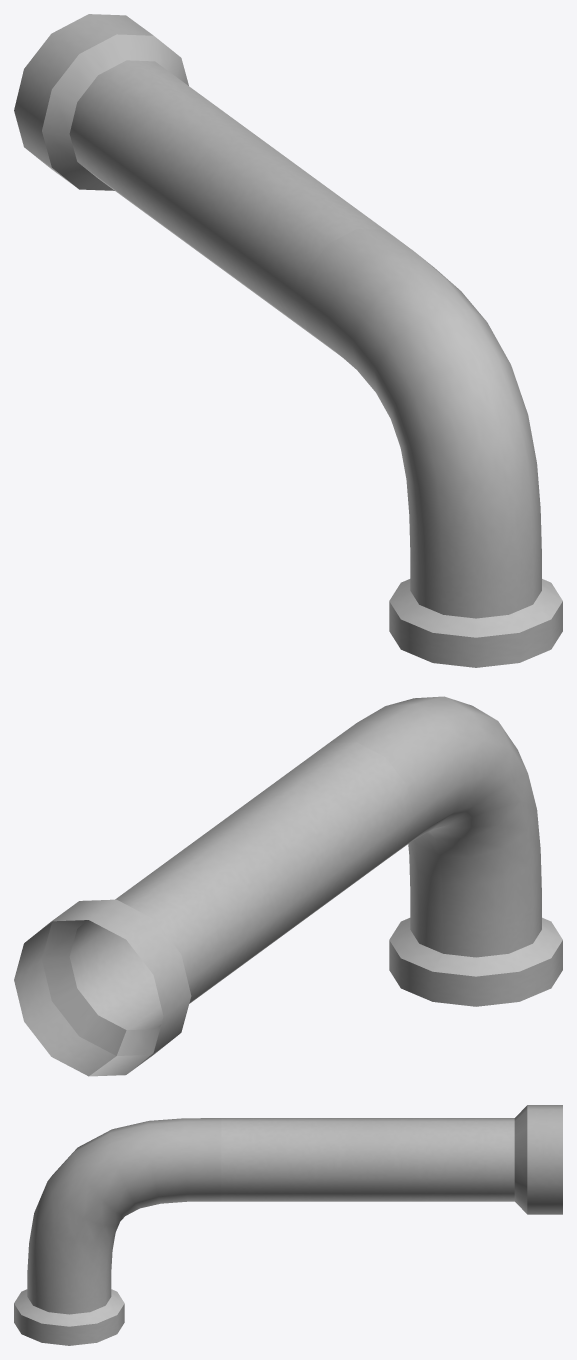
The model's file is pipe.FBX.
The picture shows the model from 3 angles, top to bottom: view 1: azimuth 30°, elevation 25°; view 2: azimuth 150°, elevation 25°; view 3: azimuth 270°, elevation 25°; orthographic projection. The views are drawn at different scales.
Visible parts, largest first — view 1: pie; view 2: pie; view 3: pie.
Part boxes in pixels (box(x1,y1,x2,y2)): pie: box(14, 14, 562, 667); pie: box(14, 696, 562, 1076); pie: box(14, 1105, 562, 1345).
Size of the model in its own units: 1.49 by 7.37 by 3.15.
